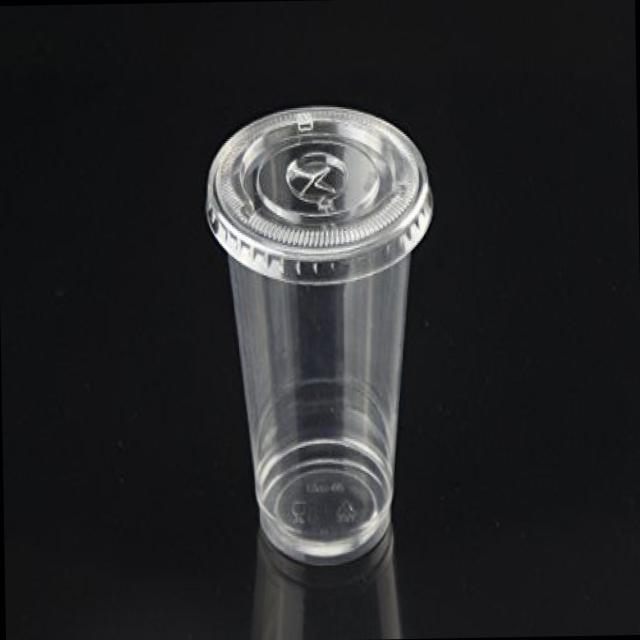GelasPlastik: (203, 99, 442, 566)
